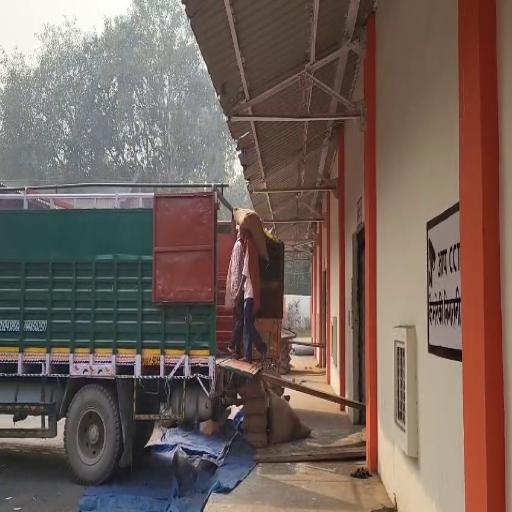bag: (232, 207, 269, 259)
